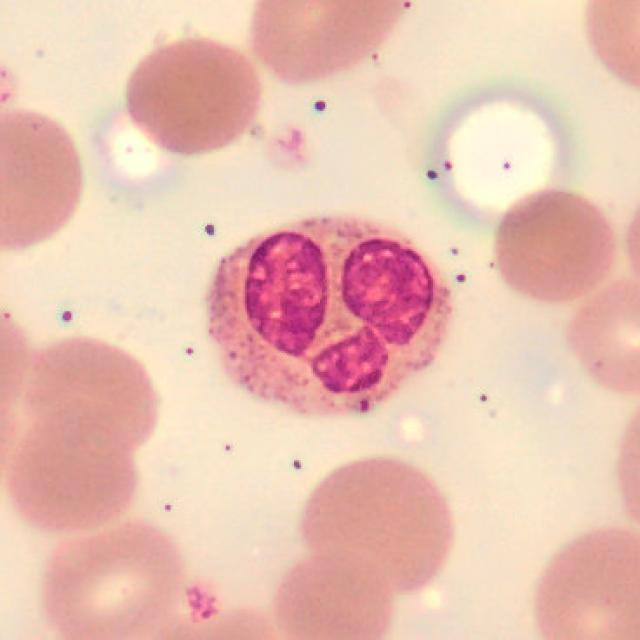Neutrofilo segmentado: (205, 214, 457, 417)
